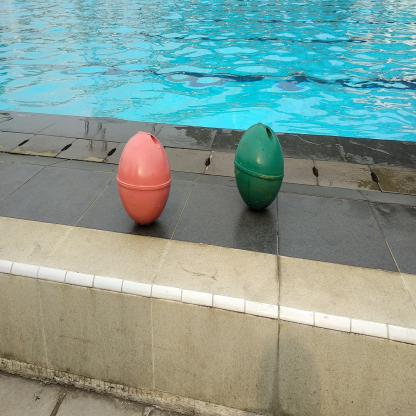green_buoy: (232, 118, 288, 218)
red_buoy: (113, 127, 176, 229)
